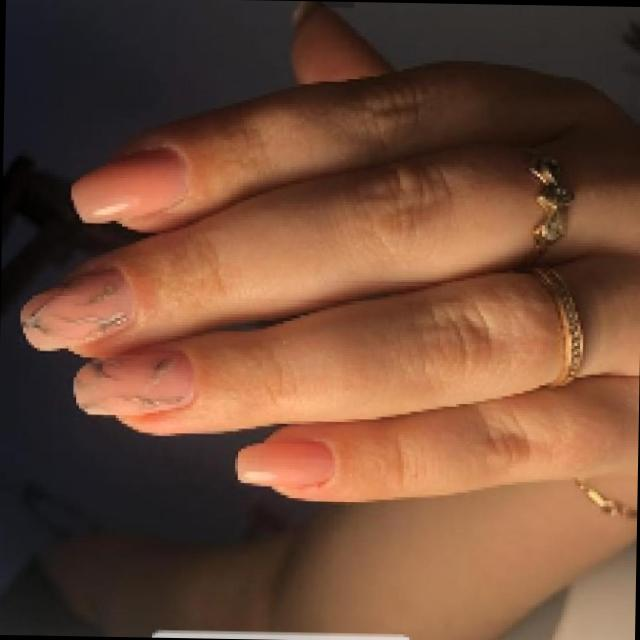Nail: (21, 268, 132, 349), (72, 149, 186, 221), (75, 349, 192, 415), (237, 440, 332, 487)
